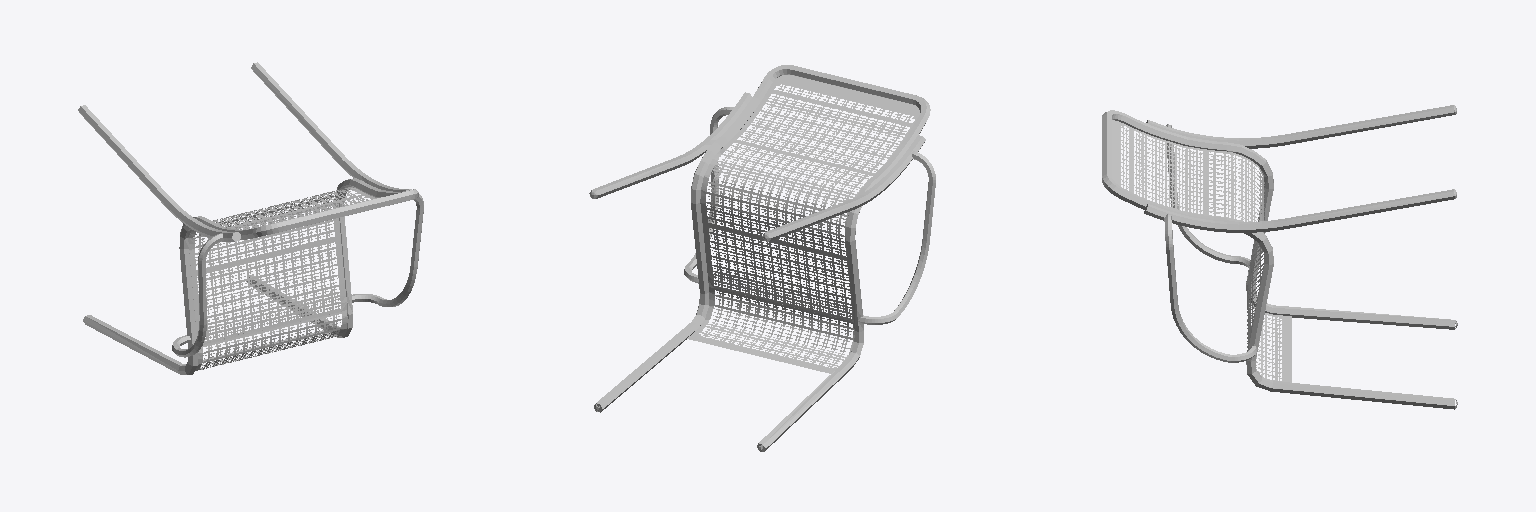
The model's file is chair_0230_Clustering_50pct.obj.
3 renders of one model, left to right at view 1: azimuth 30°, elevation 25°; view 2: azimuth 150°, elevation 25°; view 3: azimuth 270°, elevation 25°, orthographic.
Bounding box in the file's own units: 0.7328 × 0.6971 × 1.